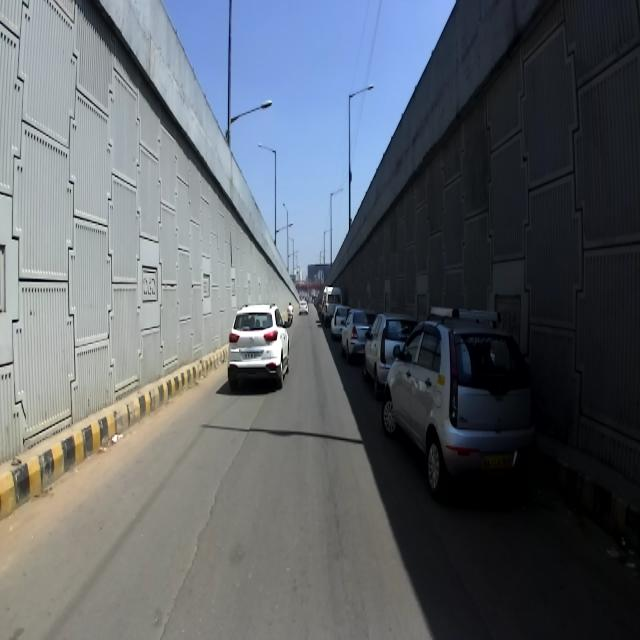car ahead at: (383, 303, 540, 497), (224, 299, 292, 394)
